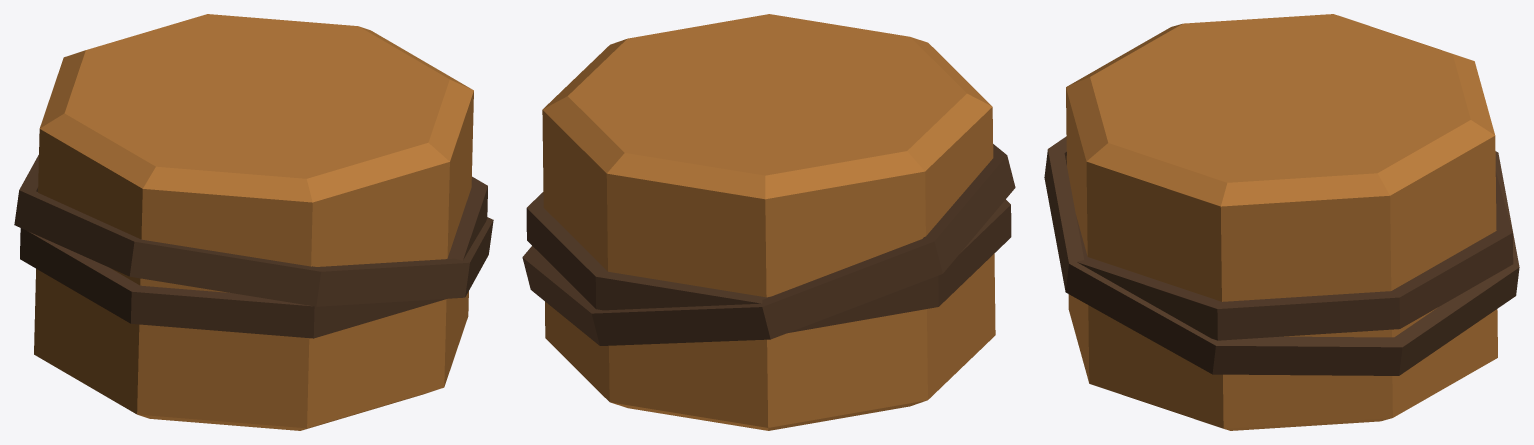
The model's file is Hayrick_2.fbx.
3 renders of one model, left to right at view 1: azimuth 30°, elevation 25°; view 2: azimuth 150°, elevation 25°; view 3: azimuth 270°, elevation 25°, orthographic.
Parts seen in each view (by area): view 1: Hayrick_2; view 2: Hayrick_2; view 3: Hayrick_2.
Part boxes in pixels (left/top/right/bottom): Hayrick_2: left=14, top=14, right=493, bottom=430; Hayrick_2: left=522, top=14, right=1015, bottom=430; Hayrick_2: left=1044, top=14, right=1519, bottom=430.
Size of the model in its own units: 95.16 by 57.29 by 95.47.
